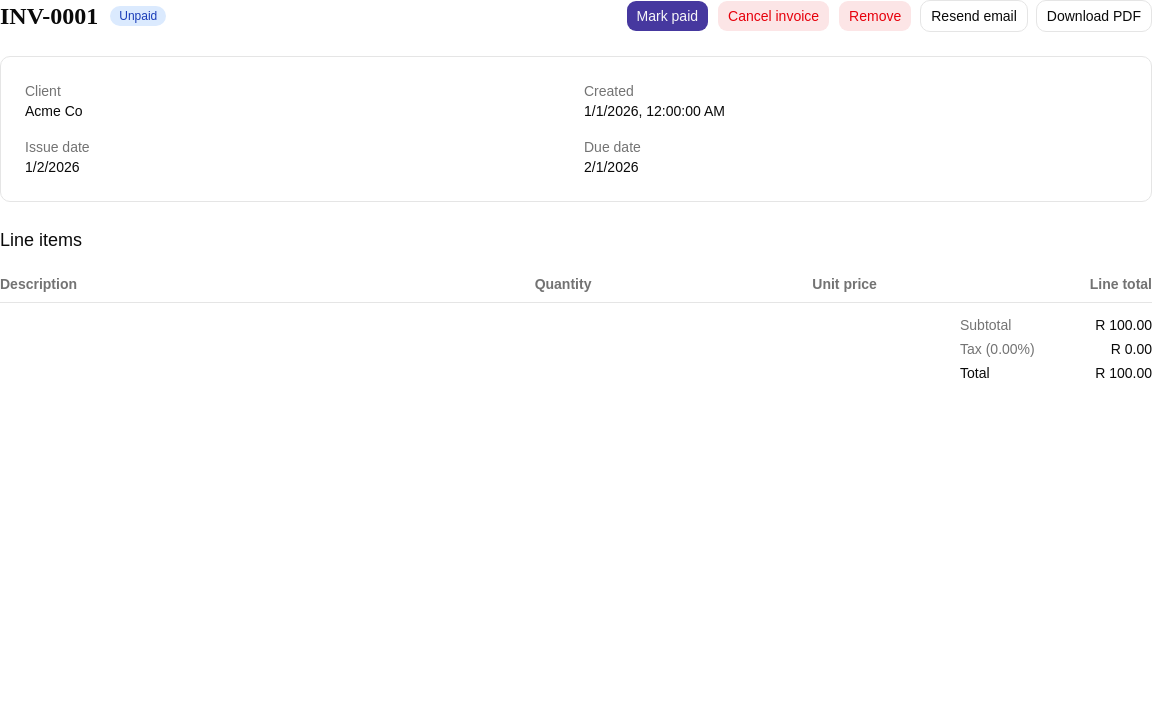
Test: InvoiceDetailPage — Resend email delivery outcome › shows the Resend-specific info Alert when email delivery fails
Click the button "Resend email" at (974, 16), box 920,0 -> 1028,32
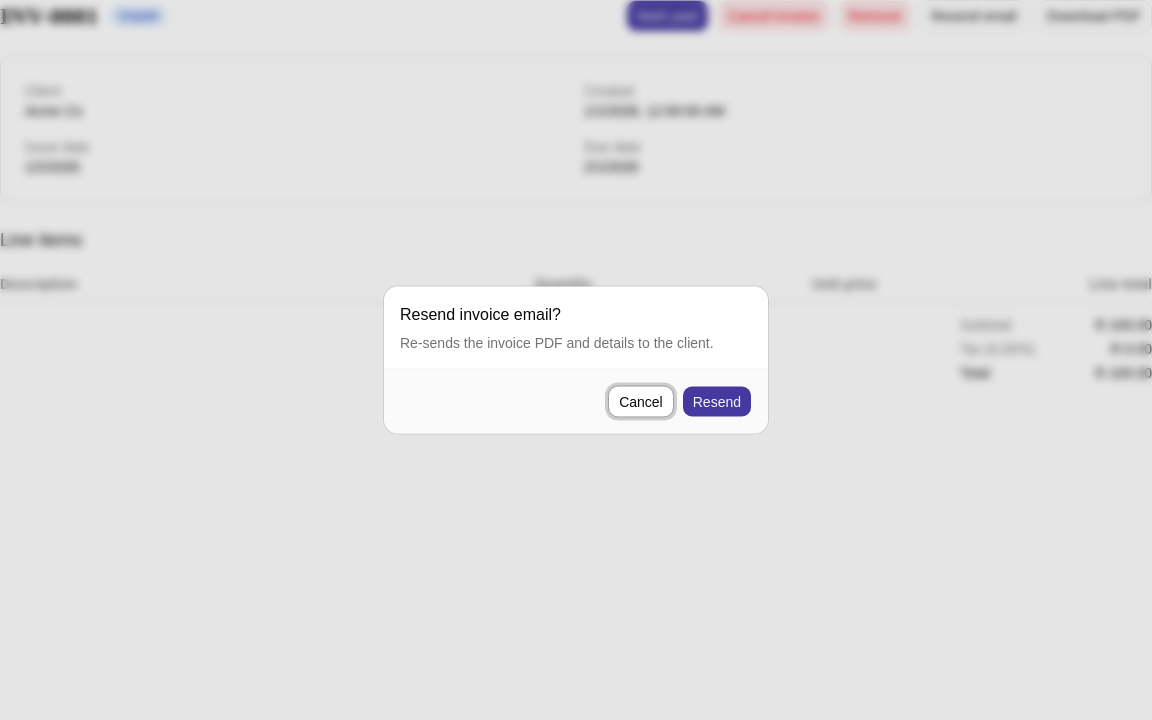
Click the button "Resend" at (717, 402), box 682,386 -> 752,418
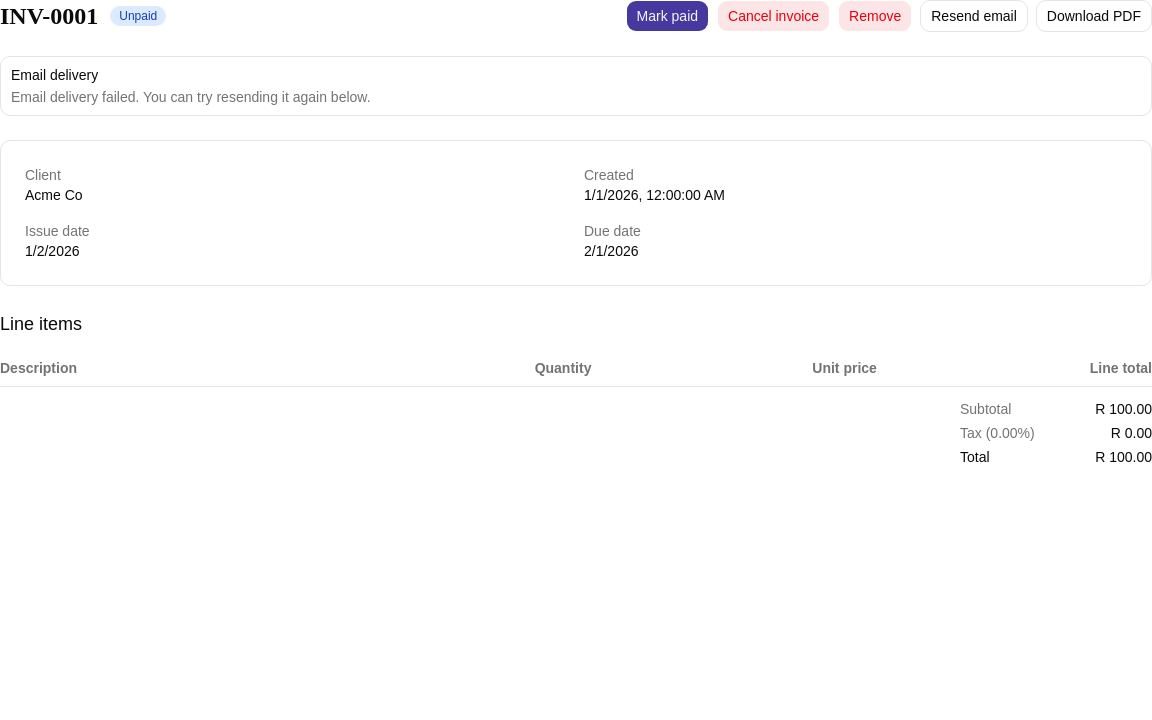
Now the text "Email delivery failed. You can try resending it again below." is shown, box 11,89 -> 371,105
